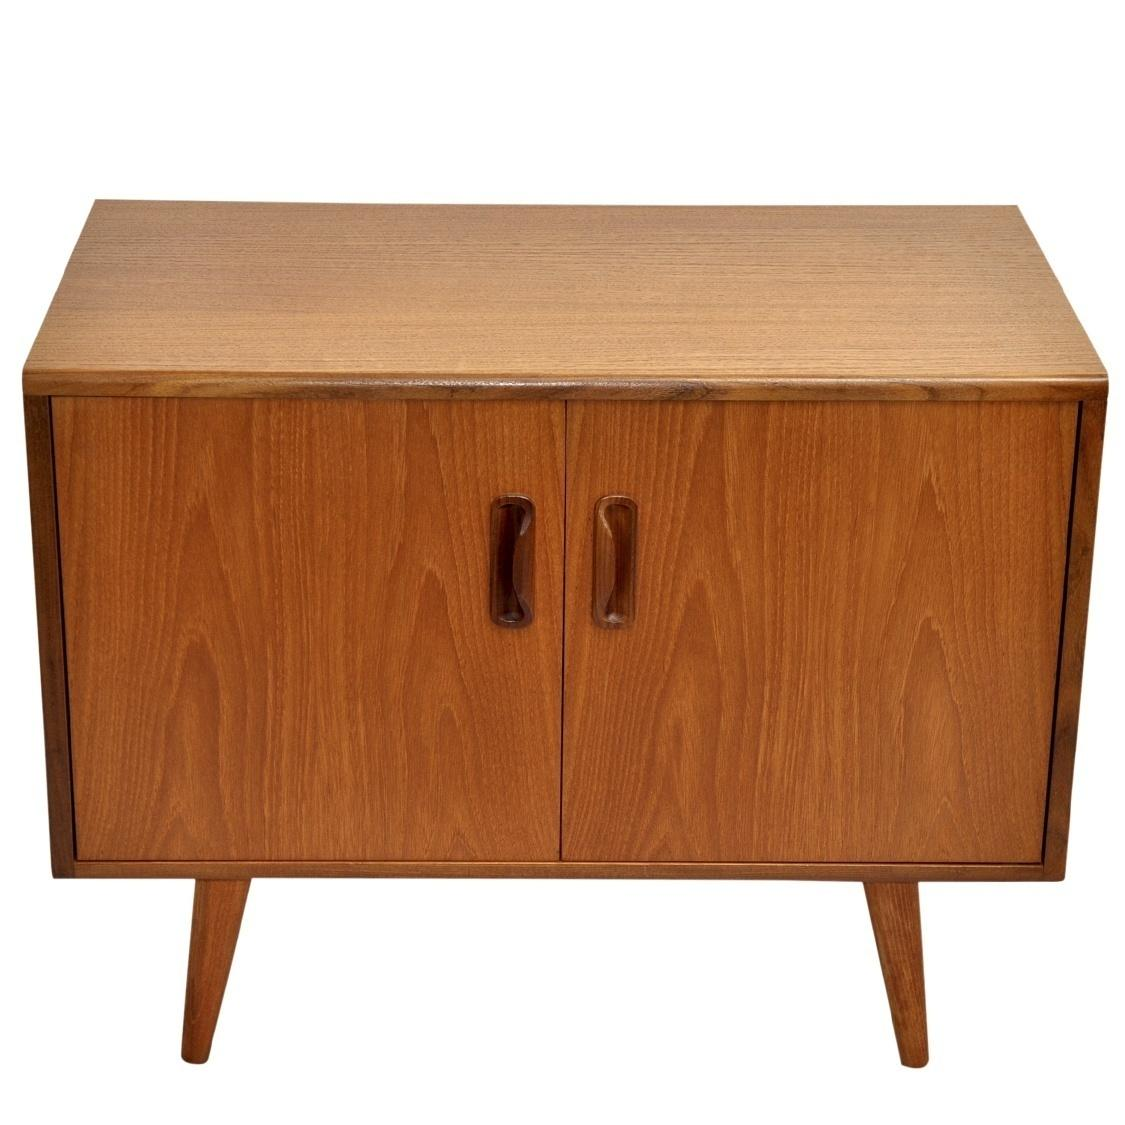cabinet_door: (56, 398, 556, 851), (568, 402, 1063, 854)
handle: (485, 490, 539, 637), (590, 490, 643, 635)
